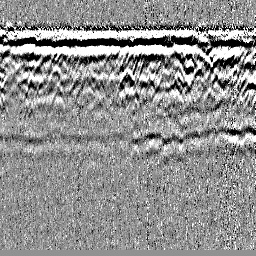cavity: (114, 68, 139, 100)
